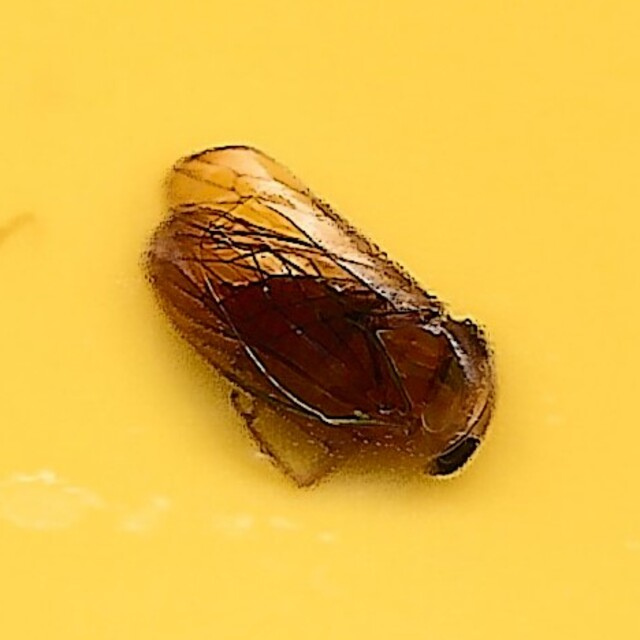Hemiptera: (137, 142, 503, 498)
